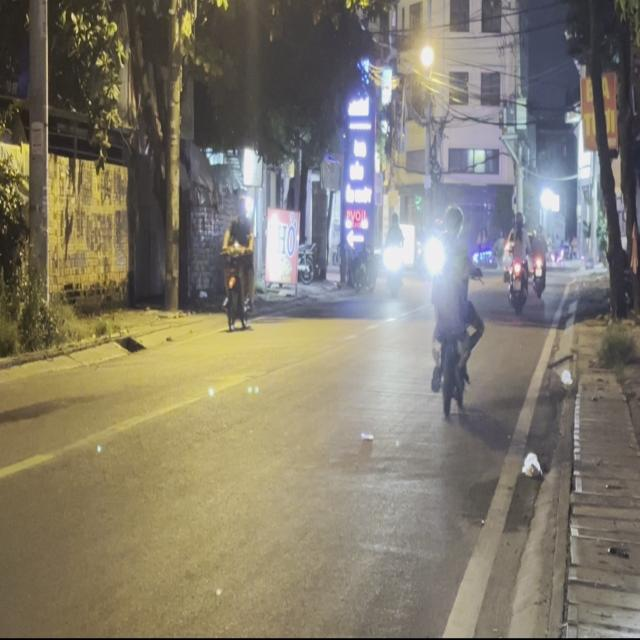licenseplate: (423, 201, 489, 417)
